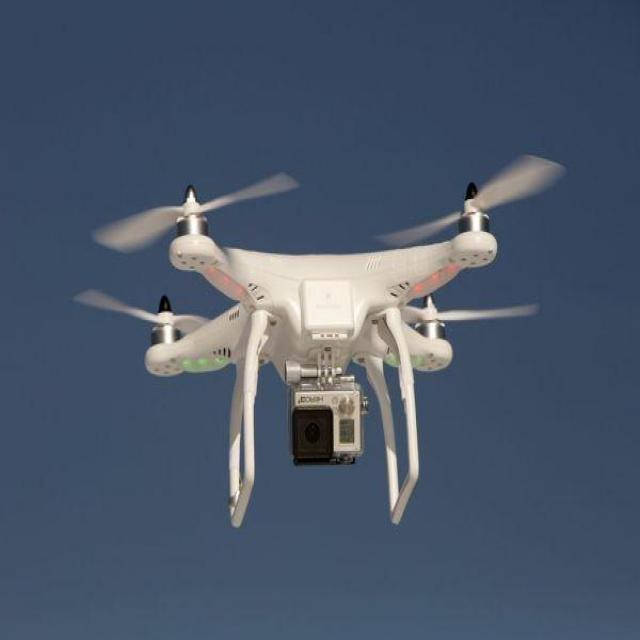drone: (143, 175, 498, 528)
